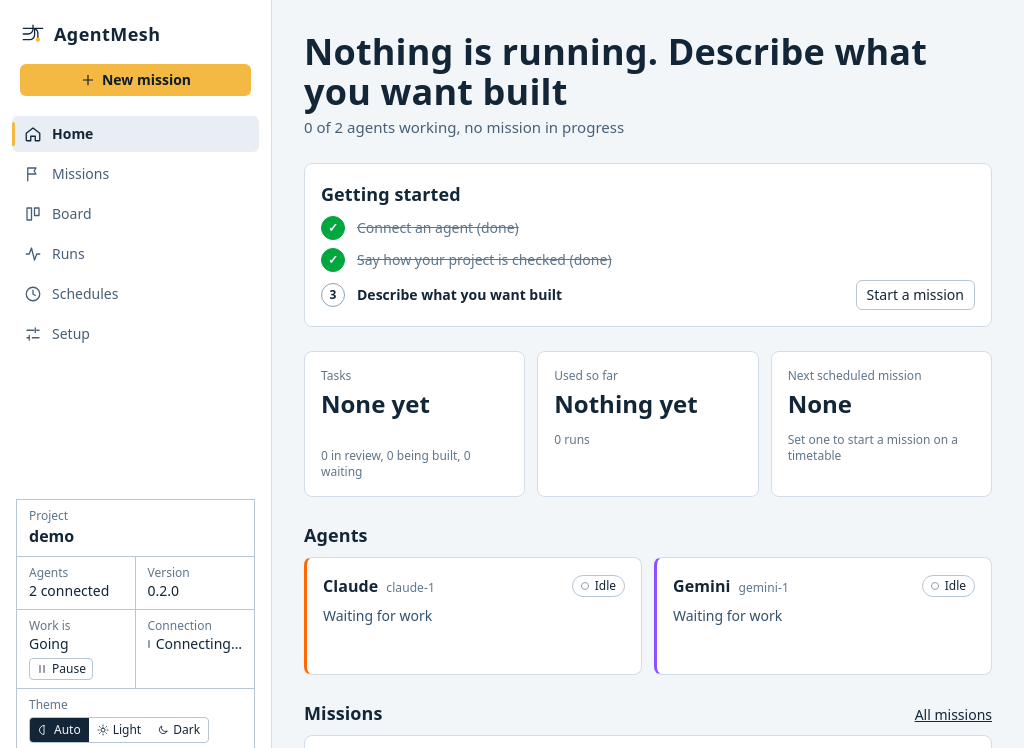
the screens › each sidebar item opens its own screen
The width and height of the screenshot is (1024, 748).
expect the heading "Nothing is running. Describe what you want built" is shown: met, box [304, 32, 992, 112]
Click the button "Board" at {"x": 136, "y": 214}, box [12, 196, 259, 232]
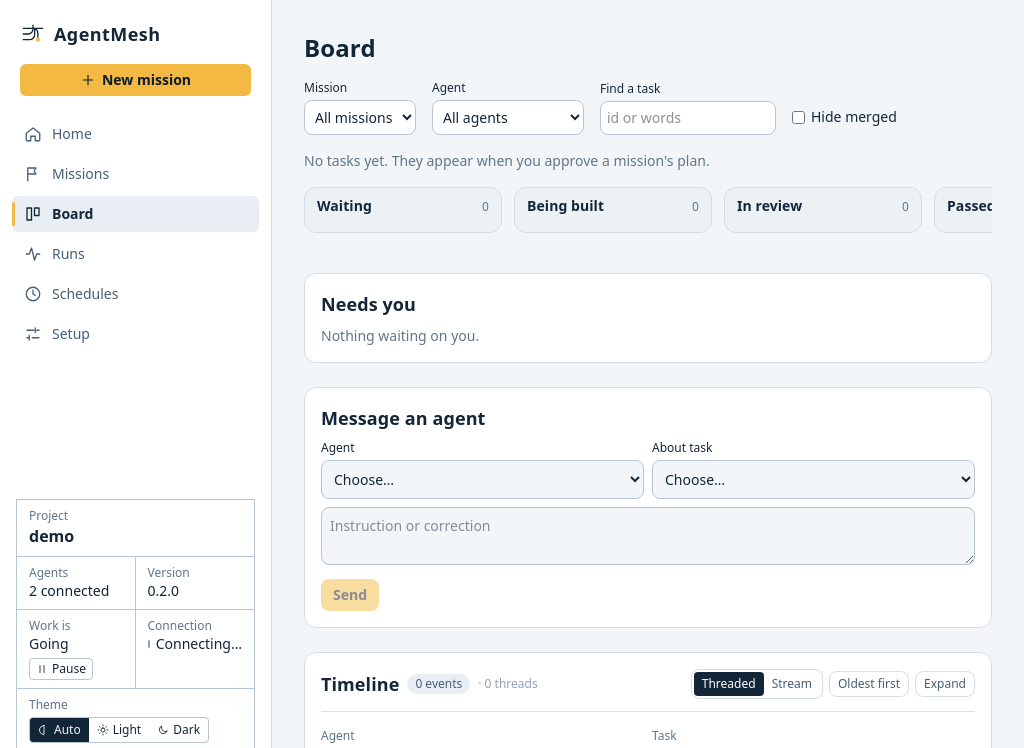
expect the heading "Board" is shown: met, box [304, 31, 376, 64]
Click the button "Runs" at {"x": 136, "y": 254}, box [12, 236, 259, 272]
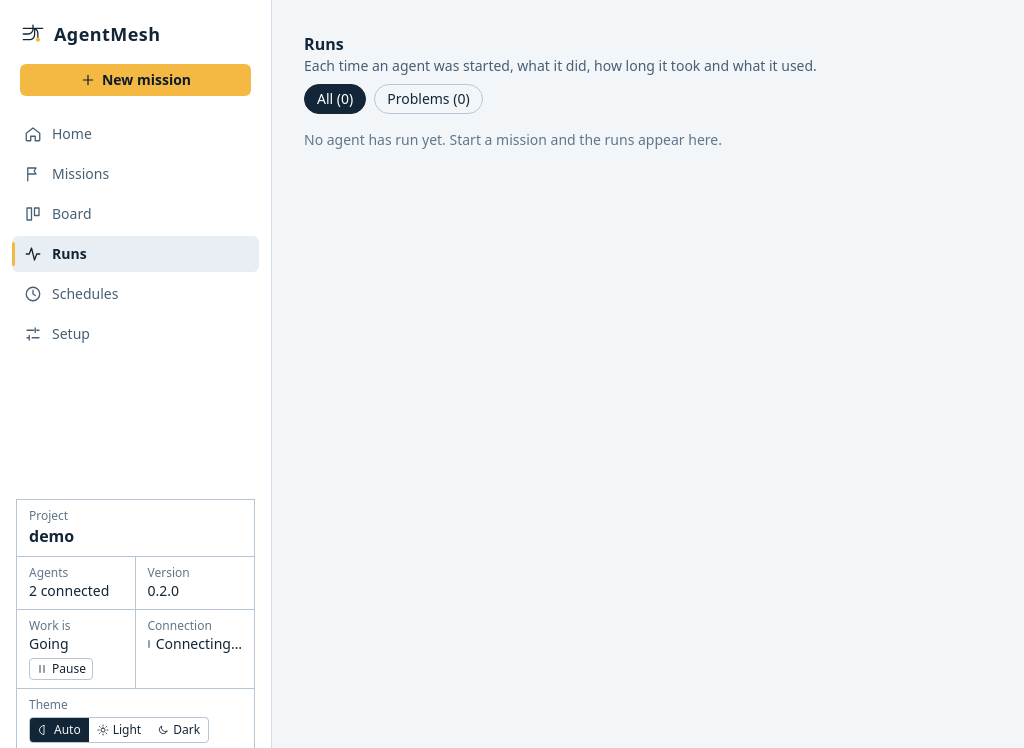
expect the element "Runs" is shown: met, box [304, 33, 817, 149]
Click the button "Schedules" at {"x": 136, "y": 294}, box [12, 276, 259, 312]
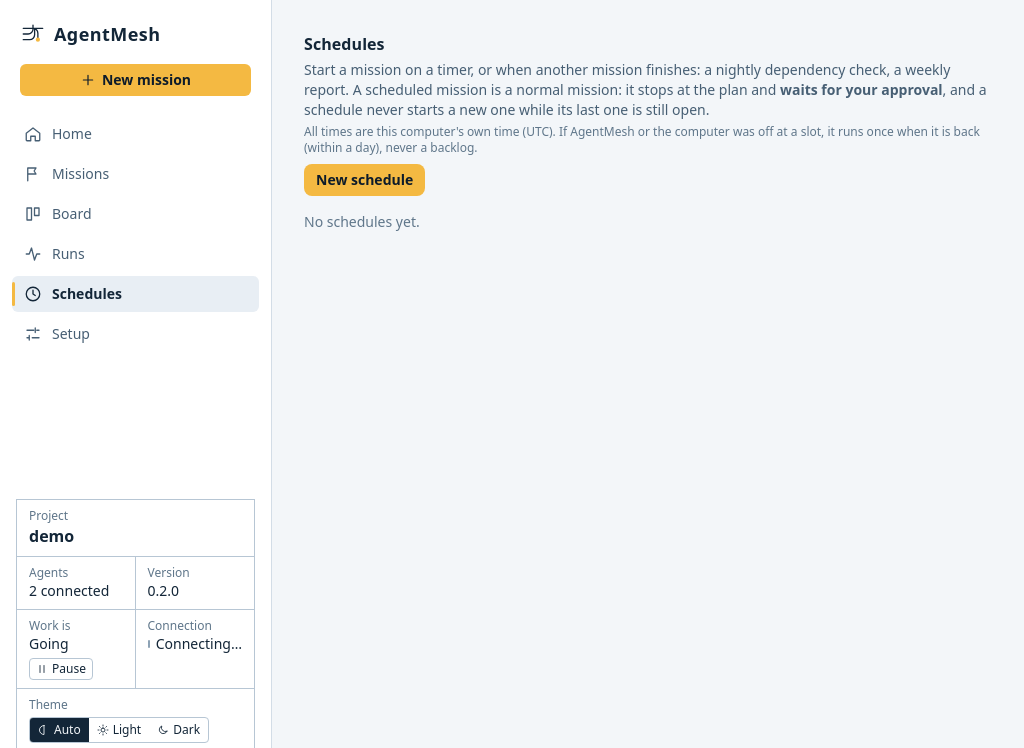
expect the heading "Schedules" is shown: met, box [304, 33, 385, 55]
